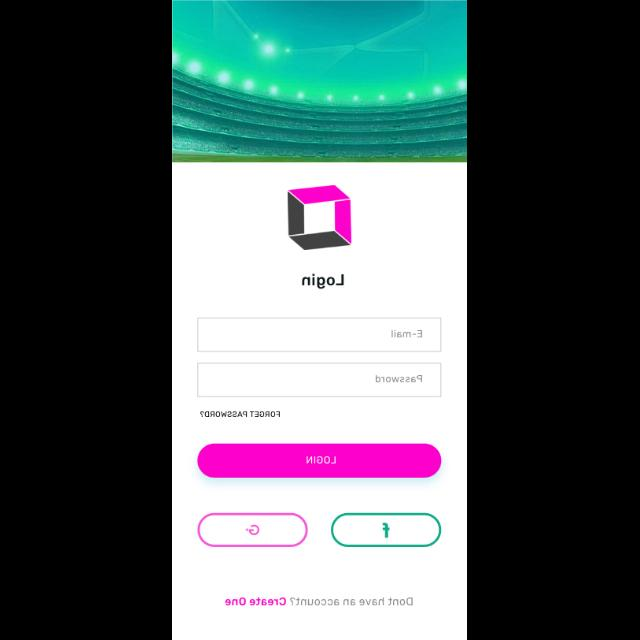image: (173, 1, 467, 163), (288, 185, 352, 251)
input: (198, 362, 442, 398), (198, 318, 442, 352)
text: (291, 596, 414, 606), (301, 272, 345, 290), (200, 410, 280, 418), (226, 596, 286, 606), (376, 376, 422, 382), (392, 330, 422, 338)
textbutton: (196, 444, 442, 478), (331, 512, 442, 548), (198, 512, 308, 548)
